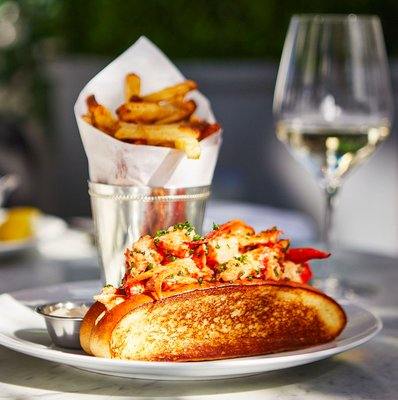pizza: (73, 52, 224, 289)
soup: (78, 219, 342, 362)
sushi: (36, 300, 94, 351)
